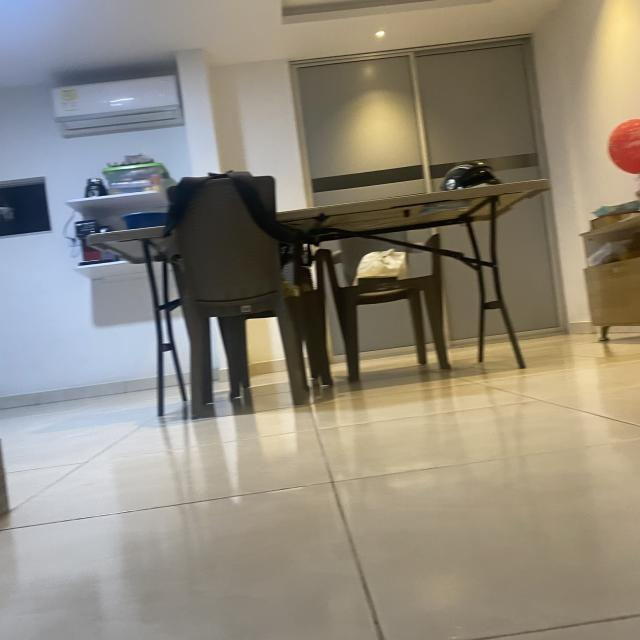obstacle: (83, 160, 550, 415), (582, 196, 640, 350)
